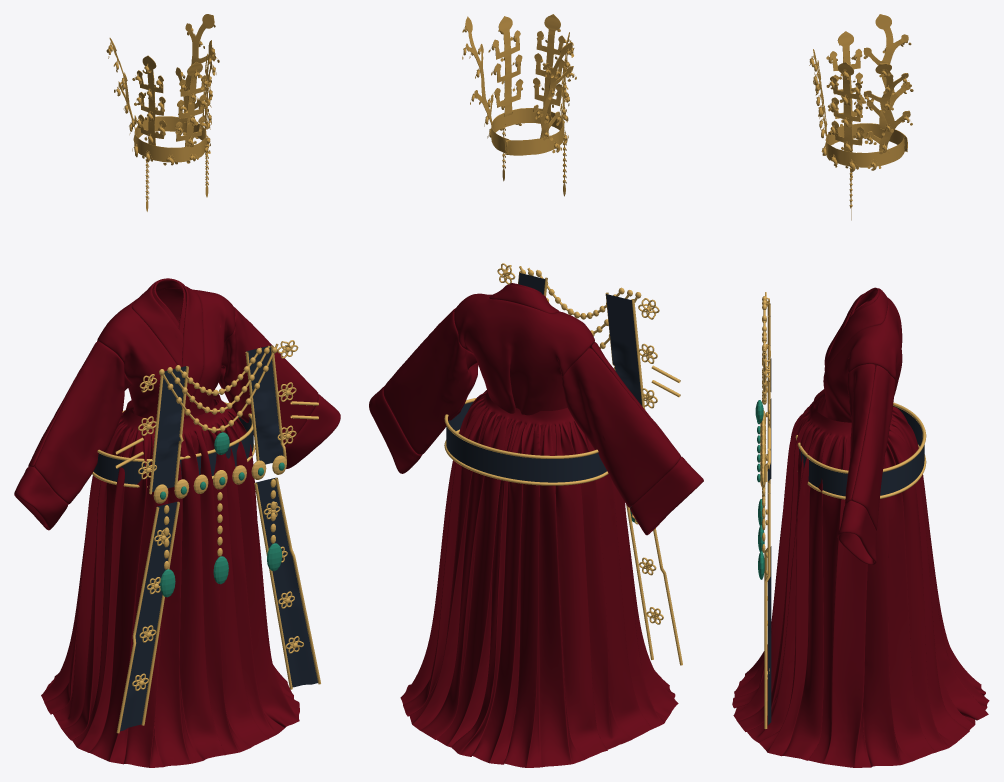
3 views of the same model, side by side, from view 1: azimuth 30°, elevation 25°; view 2: azimuth 150°, elevation 25°; view 3: azimuth 270°, elevation 25° (orthographic). The views are drawn at different scales.
Visible parts, largest first — view 1: CL_24CL0007_High; view 2: CL_24CL0007_High; view 3: CL_24CL0007_High.
Boxes of the visible parts, x1,y1,x2,y2 form: CL_24CL0007_High: (14,14,340,767); CL_24CL0007_High: (369,14,703,767); CL_24CL0007_High: (732,14,989,767).
Size of the model in its own units: 1.09 by 2.17 by 0.7489.
9 materials, 4 textured.
